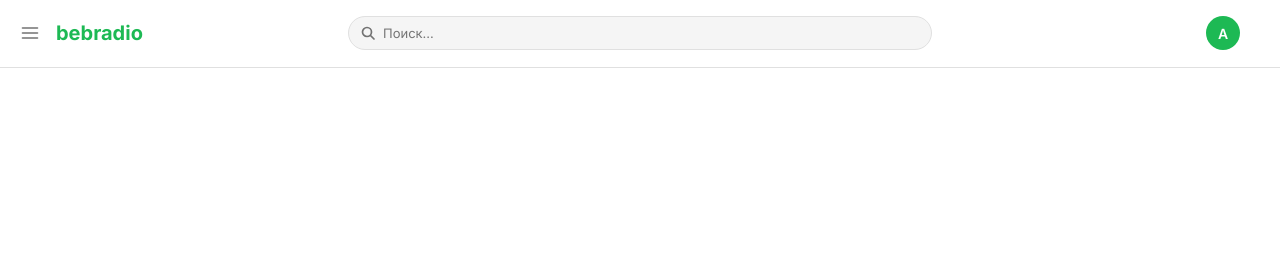
Navbar › shows username and Sign out when logged in
This screenshot has width=1280, height=260.
Click the button named "open user navigation". click: {"x": 1223, "y": 33}
box: [1206,16,1240,50]
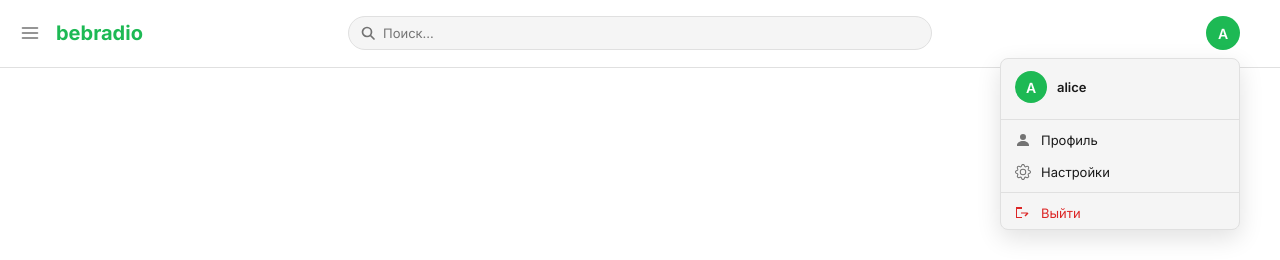
Result: the text "alice" is shown at [1057,79,1086,95]
Result: the button "Выйти" is shown at [1001,197,1239,229]
